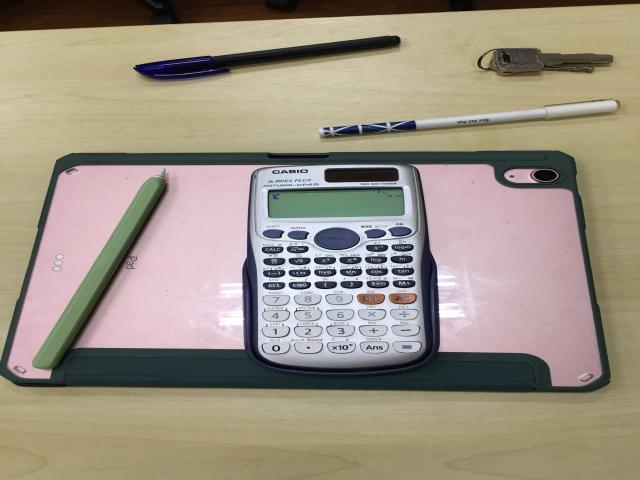Keys: (478, 48, 617, 77)
Pen: (135, 35, 405, 82), (319, 100, 621, 140)
